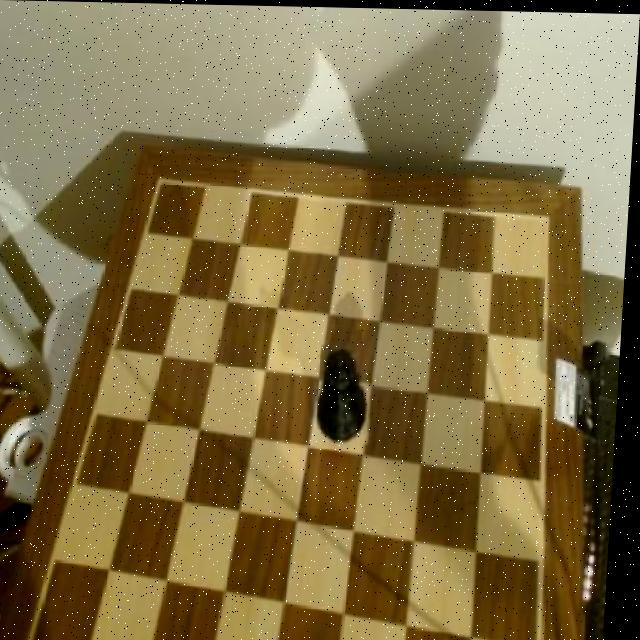black-pawn: (320, 340, 379, 447)
